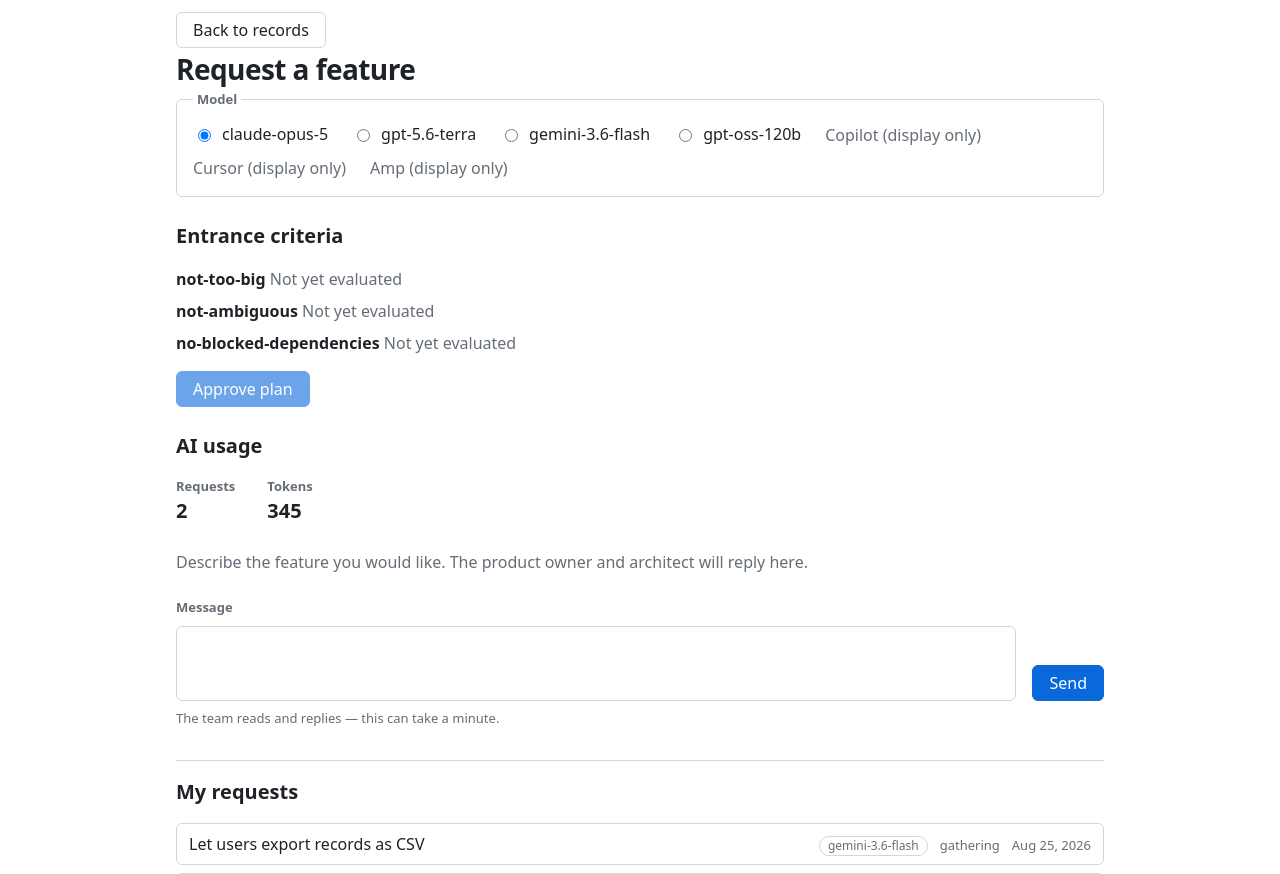
Scenario: DAN-82 tester · in-app navigation is pushState, never a reload › clicking a list entry pushes /requests/:id with no reload and no refetch
Expected: the text "Let users export records as CSV" is shown, [189, 833, 424, 855]
Click the button "Let users export records as CSV gathering Aug 25, 2026" at x=307, y=844, box [176, 823, 1104, 865]
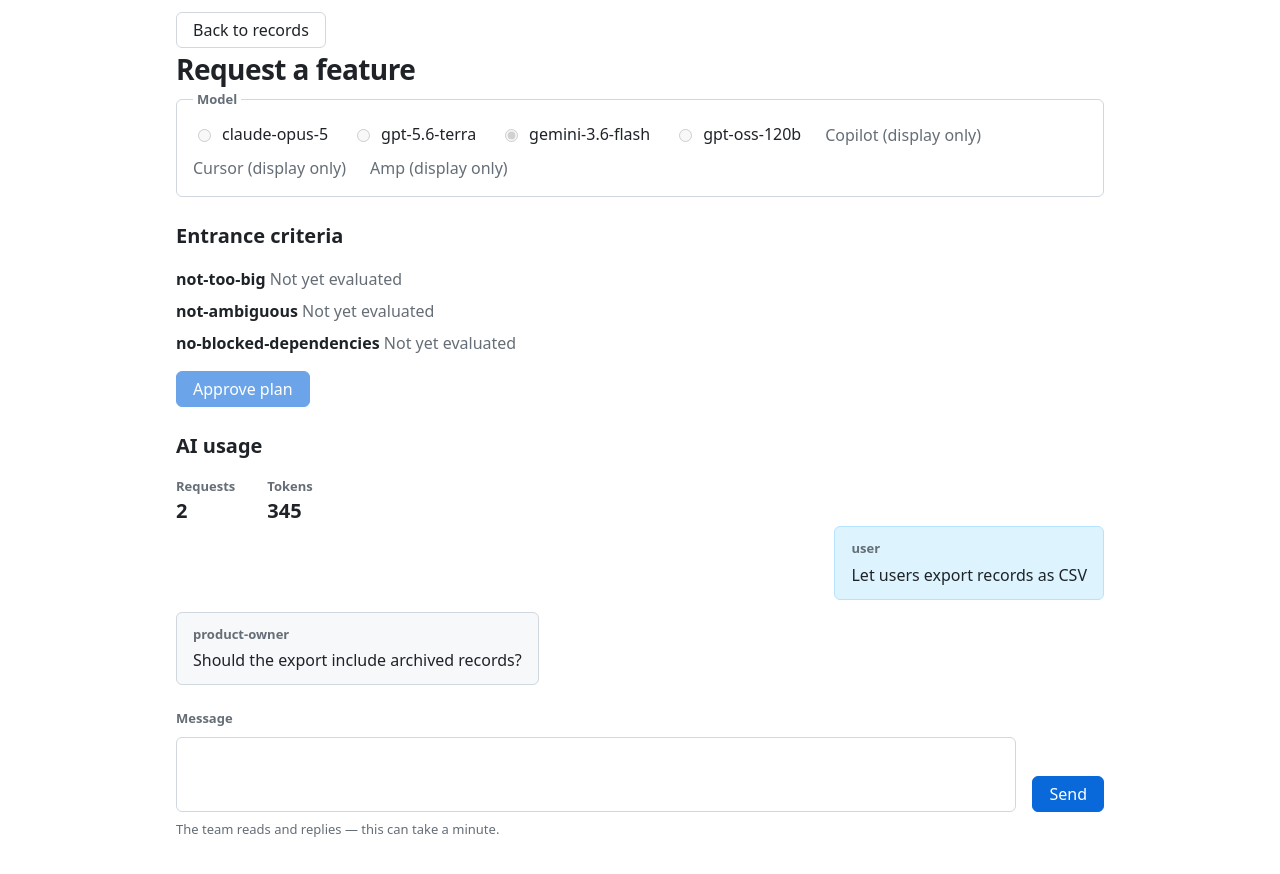
Expected: the text "Should the export include archived records?" is shown, [193, 648, 522, 672]
